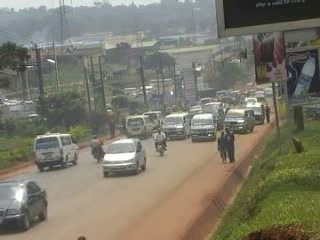Car: (0, 177, 50, 233), (100, 135, 149, 178), (185, 102, 204, 117)
Motorcycle: (149, 126, 170, 156), (89, 133, 105, 164)
